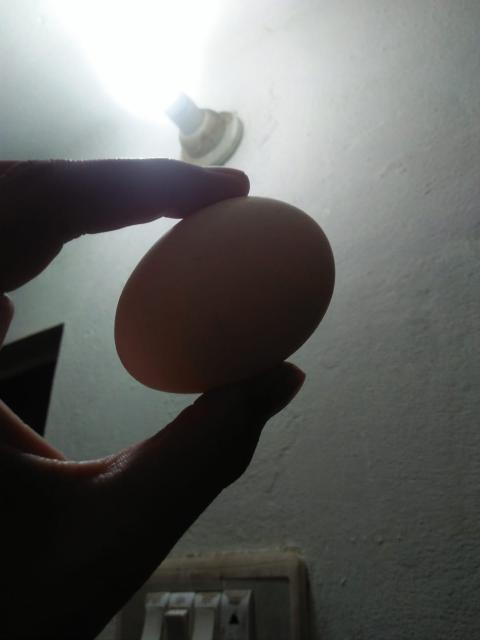Sano: (113, 194, 336, 394)
